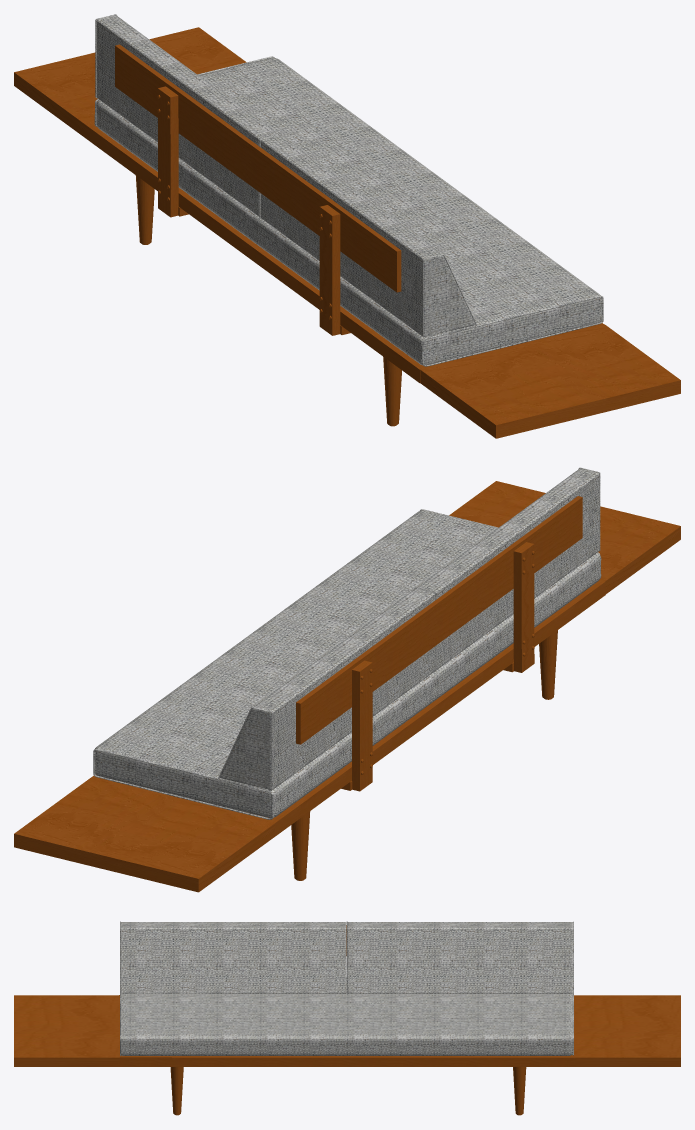
The model's file is Horizon1git.glb.
3 renders of one model, top to bottom at view 1: azimuth 30°, elevation 25°; view 2: azimuth 150°, elevation 25°; view 3: azimuth 270°, elevation 25°, orthographic. The views are drawn at different scales.
Visible parts, largest first — view 1: Cylinder.005, Cylinder.068; view 2: Cylinder.005, Cylinder.068; view 3: Cylinder.005, Cylinder.068.
Boxes of the visible parts, x1=… form: Cylinder.005: x1=94, y1=14, x2=603, y2=366; Cylinder.068: x1=14, y1=27, x2=680, y2=438; Cylinder.005: x1=93, y1=467, x2=601, y2=819; Cylinder.068: x1=14, y1=481, x2=680, y2=892; Cylinder.005: x1=120, y1=921, x2=573, y2=1055; Cylinder.068: x1=14, y1=925, x2=680, y2=1115.
Size of the model in its own units: 0.8028 by 0.7788 by 3.43.
Materials: 2 (2 with a texture image).
